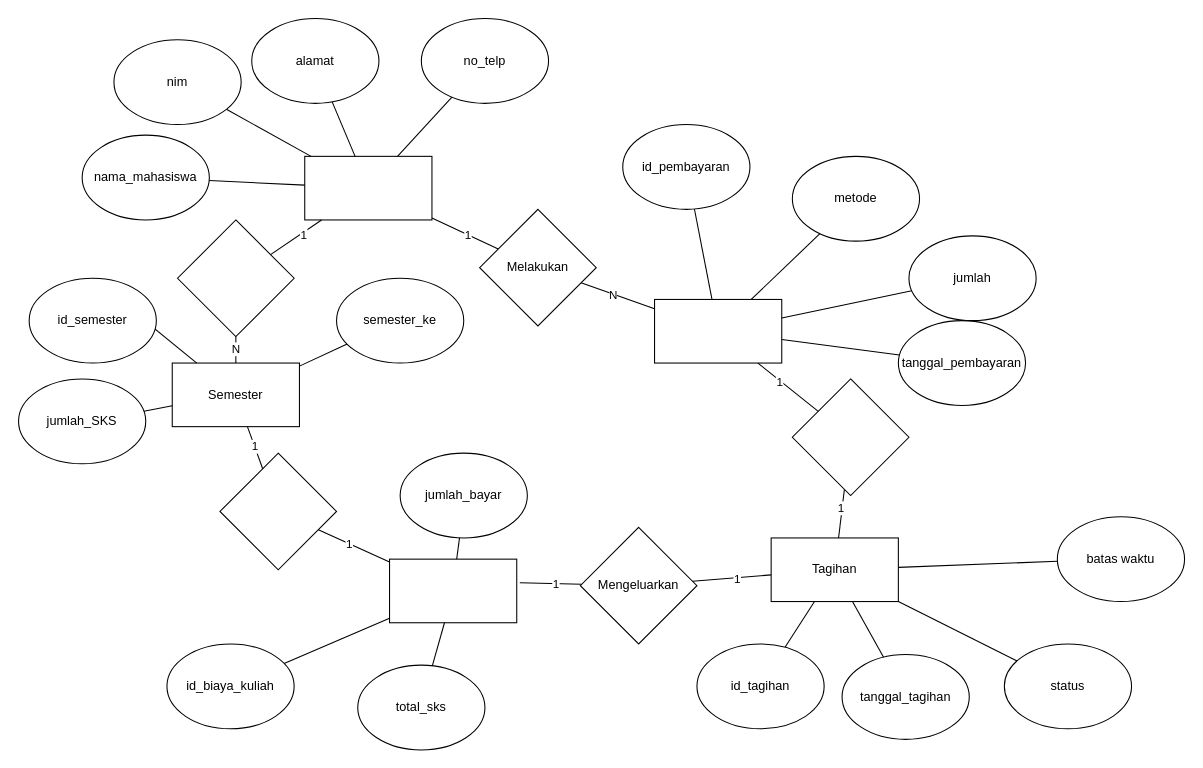
This 1203x768 diagram has some shape labels left out. The centre of each missing label's shape, as x and y in pixels:
Biaya Kuliah: pixel 452 590
Mahasiswa: pixel 368 187
Memiliki: pixel 278 511
Mengikuti: pixel 235 278
Mengonfirmasi: pixel 850 437
Pembayaran: pixel 717 330
